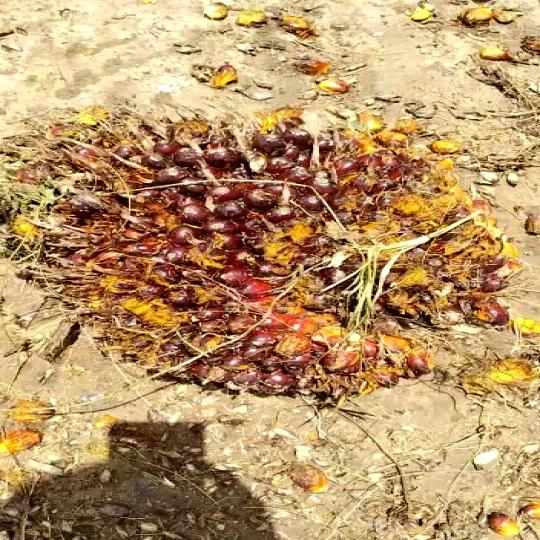masak: (0, 94, 540, 422)
